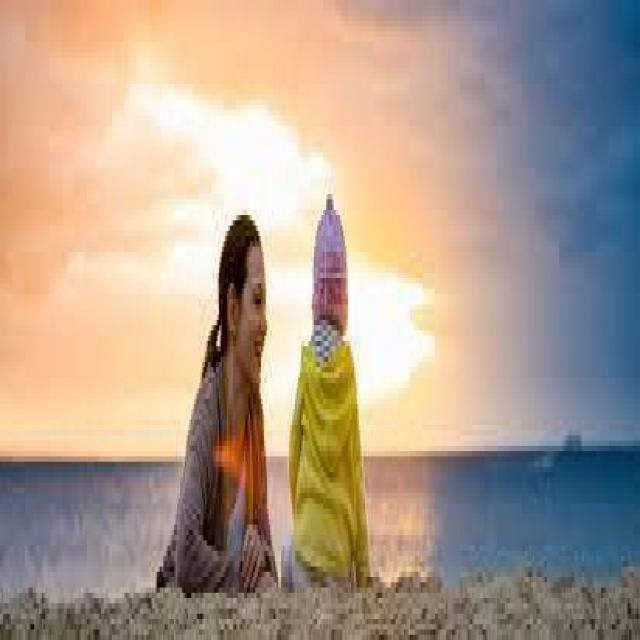person: (169, 157, 281, 619), (274, 136, 378, 630)
